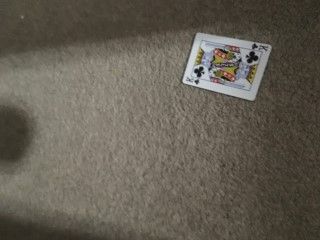KingOfClubs: (182, 32, 272, 100)
